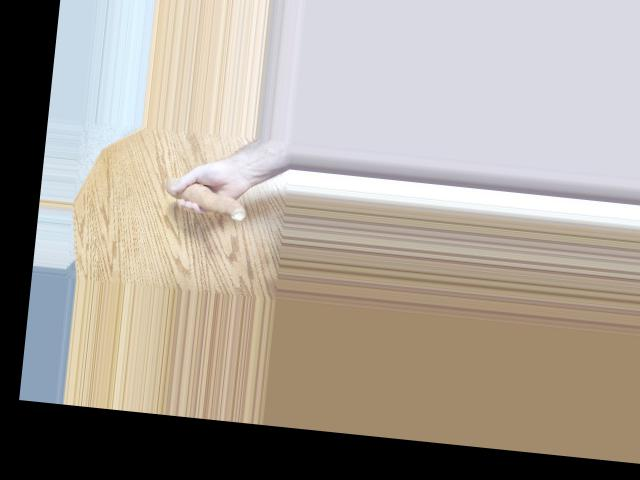sweet_potato: (159, 178, 253, 221)
